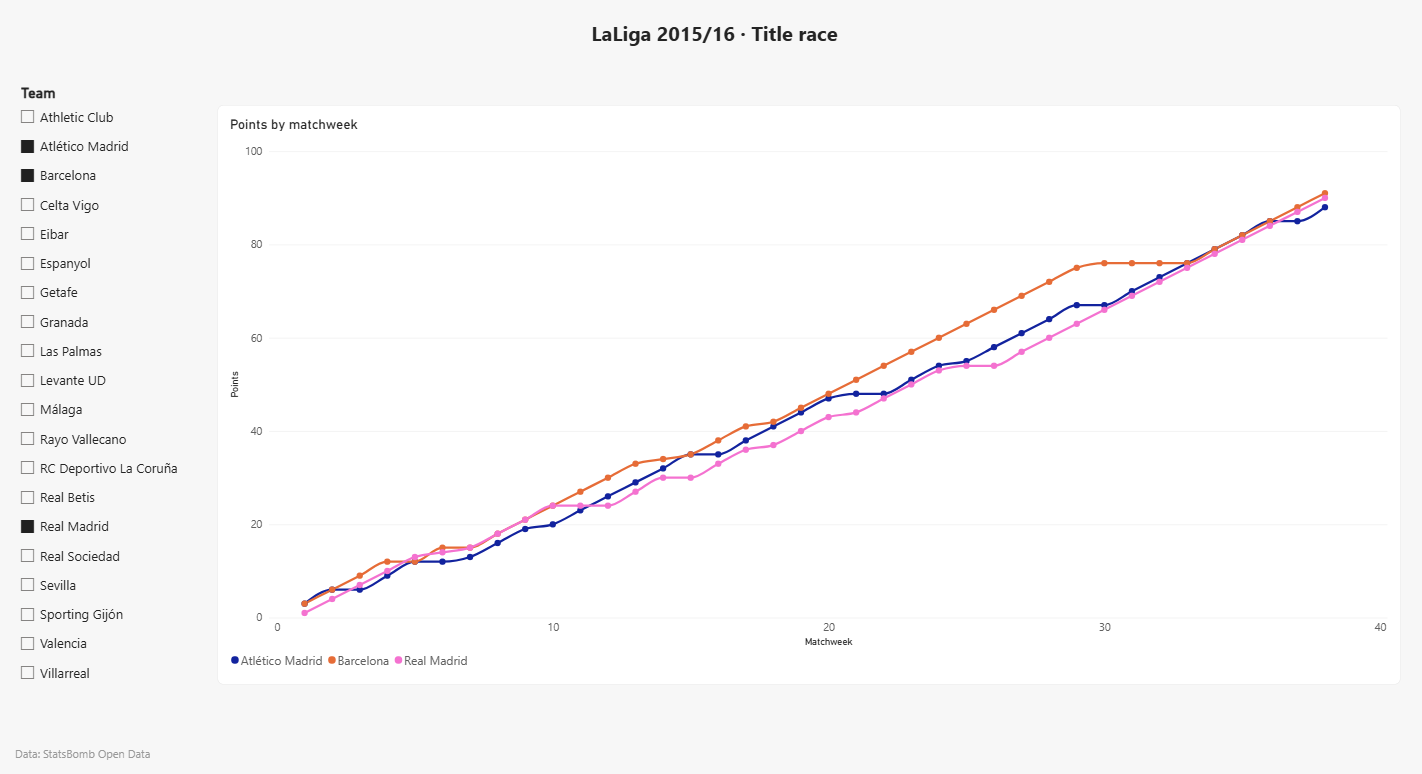

The dashboard page shown, as its layout file describes it:
{"tool":"powerbi","page":{"name":"Season race","canvas":[1920,1080],"ordinal":3},"visuals":[{"type":"textbox","box":[27.5,42.5,1865,57.5],"z":0},{"type":"slicer","fields":{"Values":["dim_team.team_name"]},"box":[27.5,127.5,232.5,917.5],"z":1000},{"type":"lineChart","title":"Points by matchweek","fields":{"Category":["dim_match.matchweek"],"Series":["dim_team.team_name"],"Y":["metrics.Cumulative Points"]},"box":[297.5,155,1577.5,772.5],"z":2000},{"type":"textbox","box":[27.5,1010,300,35],"z":2001}]}

Visuals, with their boxes on the page's 1920x1080 design canvas (x1, y1, x2, y2). These are canvas units, not pixel positions in the 1422x774 screenshot, which may show the page scaled, cropped or inside an application window:
textbox: {"left": 28, "top": 42, "right": 1892, "bottom": 100}
slicer - dim_team.team_name: {"left": 28, "top": 128, "right": 260, "bottom": 1045}
"Points by matchweek" lineChart: {"left": 298, "top": 155, "right": 1875, "bottom": 928}
textbox: {"left": 28, "top": 1010, "right": 328, "bottom": 1045}
